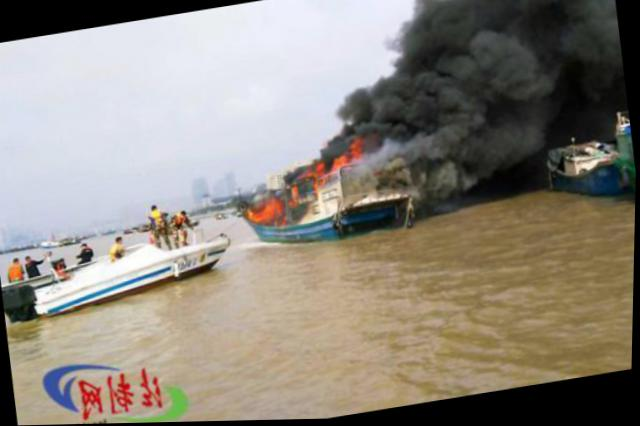fire: (254, 199, 289, 225), (350, 138, 367, 159), (331, 156, 349, 169), (316, 162, 329, 177)
